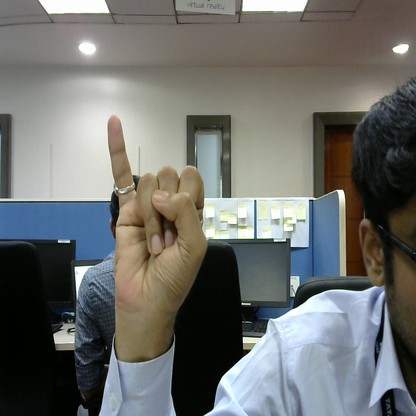i: (94, 110, 212, 318)
